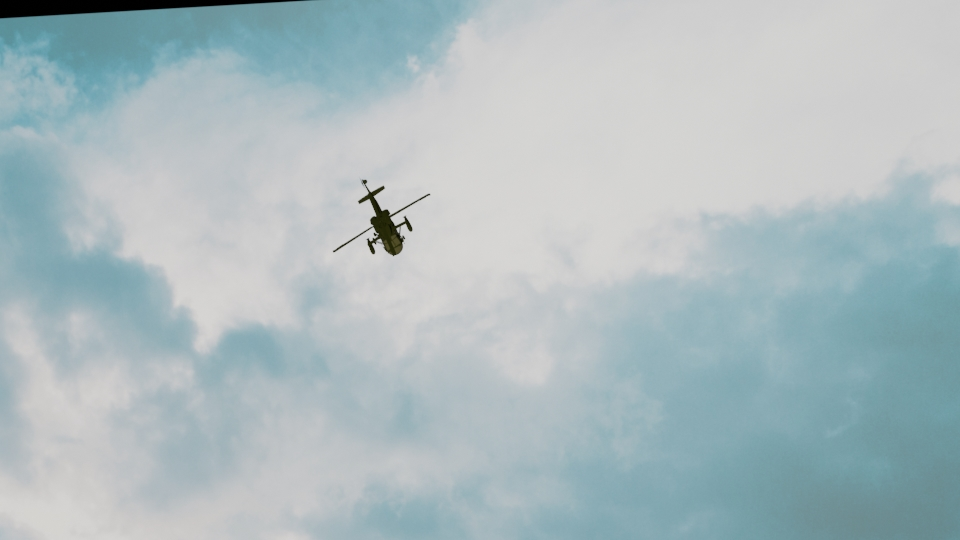heli: (331, 177, 427, 259)
